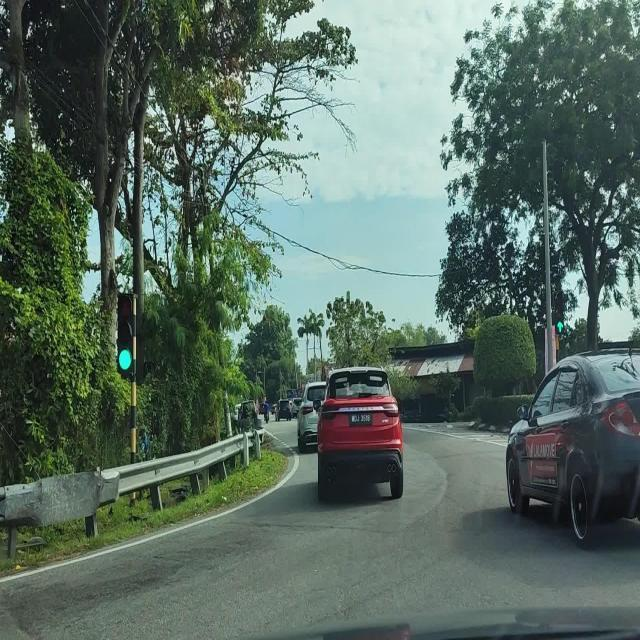green_light: (116, 292, 134, 374), (554, 290, 564, 335)
